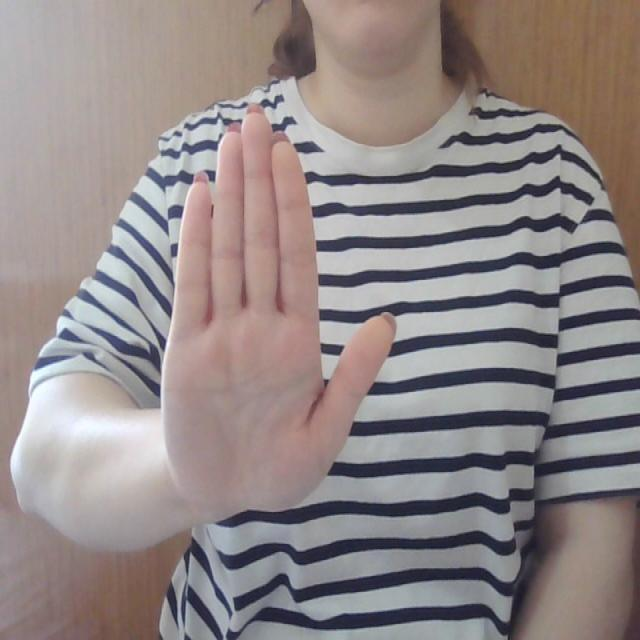Dur: (152, 87, 420, 517)
